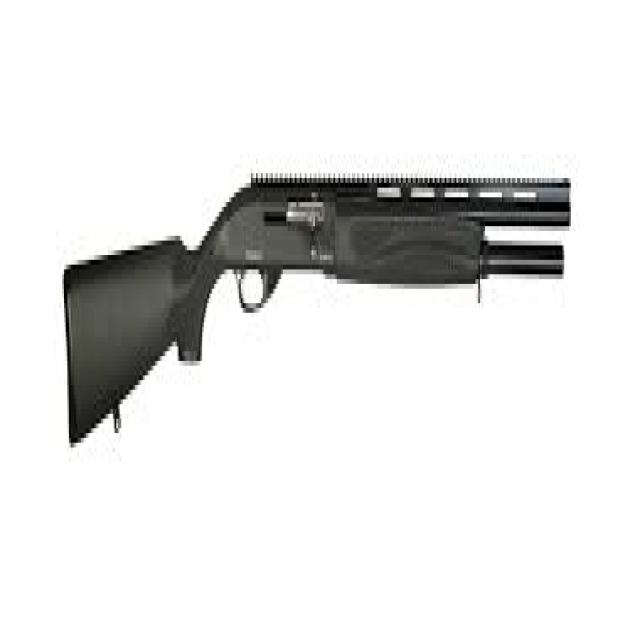rifle: (54, 145, 579, 466)
